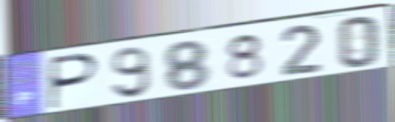0: (336, 14, 382, 70)
2: (279, 22, 325, 79)
8: (162, 39, 214, 93), (225, 32, 265, 83)
9: (109, 45, 154, 101)
P: (47, 51, 102, 112)
